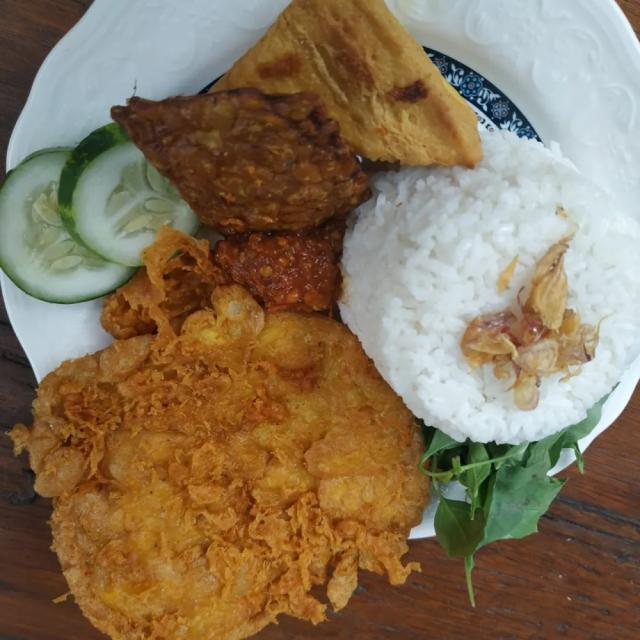ayam_goreng: (8, 326, 428, 640)
nasi_putih: (366, 165, 640, 448)
